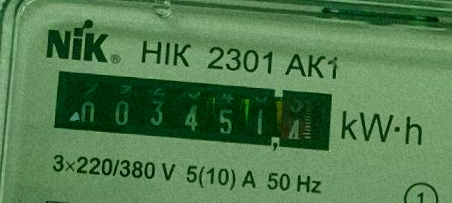0: (111, 98, 131, 127), (76, 97, 97, 124)
1: (251, 105, 268, 137)
3: (146, 96, 166, 128)
4: (180, 102, 201, 134), (283, 115, 304, 144)
5: (216, 105, 234, 137)
screen: (46, 65, 338, 158)
